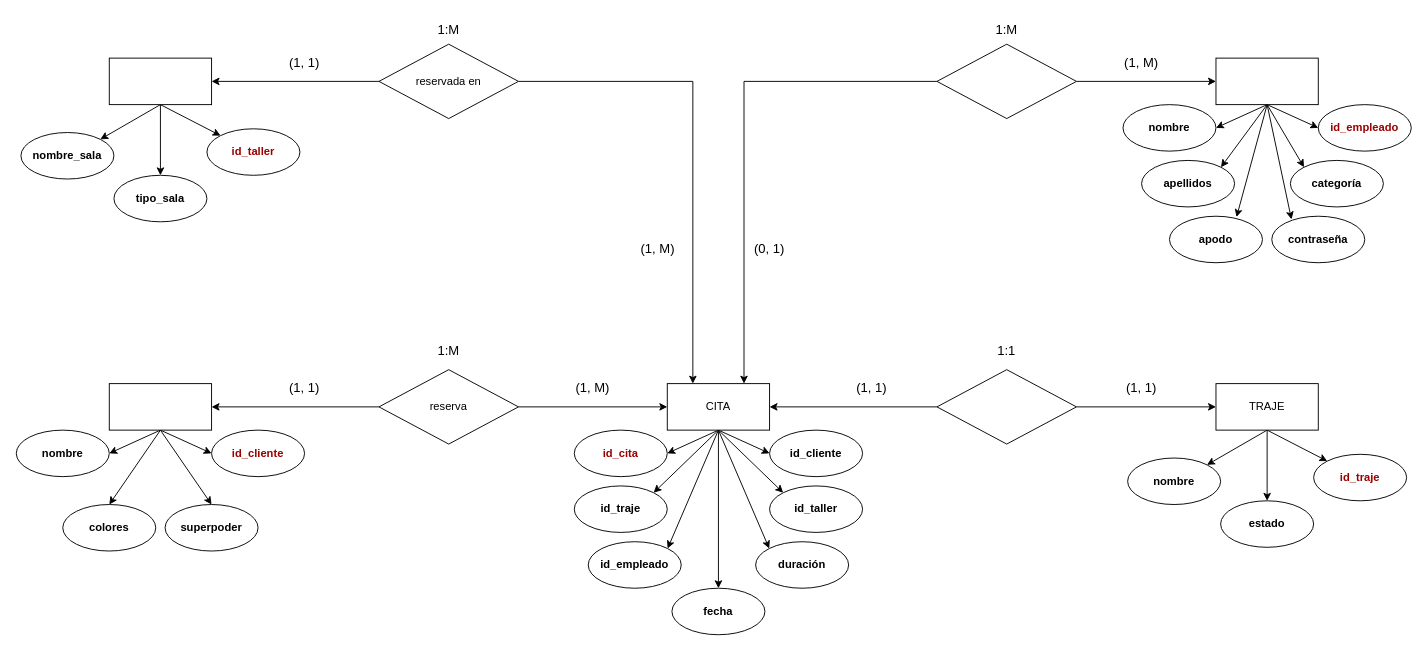
Some shapes in this 1428 by 651 pixel diagram are drawn without their labels. Here are the shapes that lost their labels. From the top down, the box of each, then its label:
(108, 57, 212, 105): TALLER
(936, 43, 1076, 119): atendida por
(1215, 57, 1318, 105): EMPLEADO
(108, 383, 212, 430): CLIENTE
(936, 369, 1076, 444): pedida para
